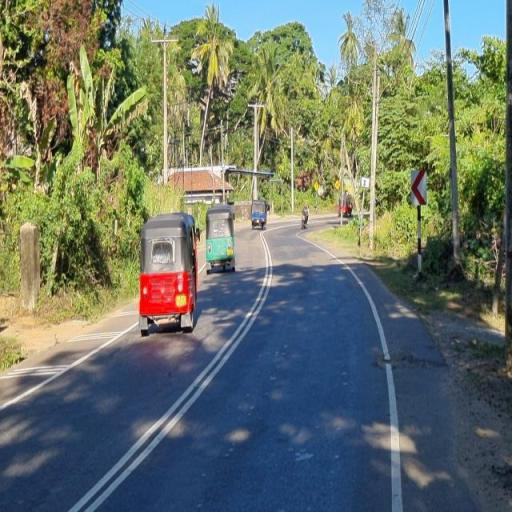double_white_line: (68, 231, 275, 512)
